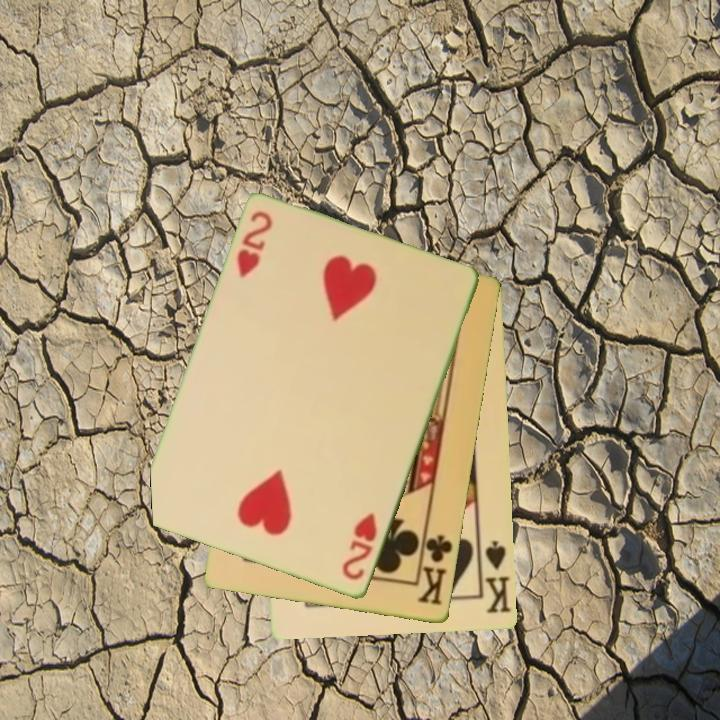2h: (338, 509, 381, 584), (233, 207, 276, 281)
Kc: (414, 527, 456, 609)
Ks: (475, 536, 514, 617)
